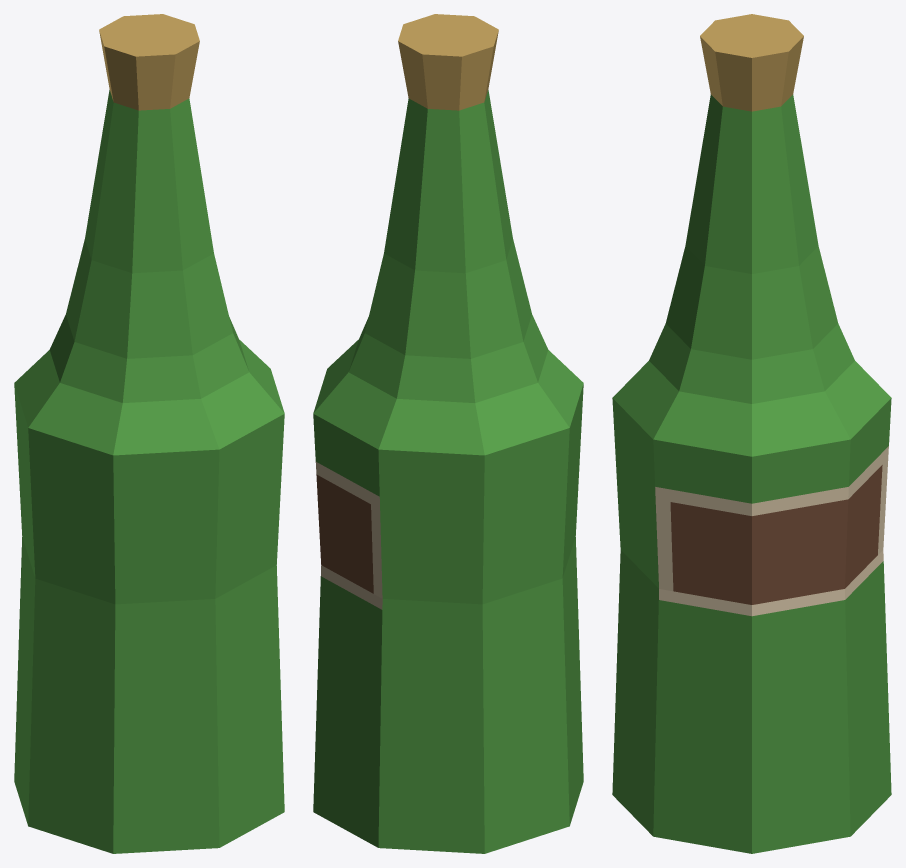
File: Bottle.fbx
3 views of the same model, side by side, from view 1: azimuth 30°, elevation 25°; view 2: azimuth 150°, elevation 25°; view 3: azimuth 270°, elevation 25° (orthographic).
Visible parts, largest first — view 1: Cylinder; view 2: Cylinder; view 3: Cylinder.
Part boxes in pixels (bbox=[...]): Cylinder: bbox=[14, 14, 284, 853]; Cylinder: bbox=[313, 14, 583, 853]; Cylinder: bbox=[612, 14, 891, 853].
Size of the model in its own units: 20 by 60 by 20.
